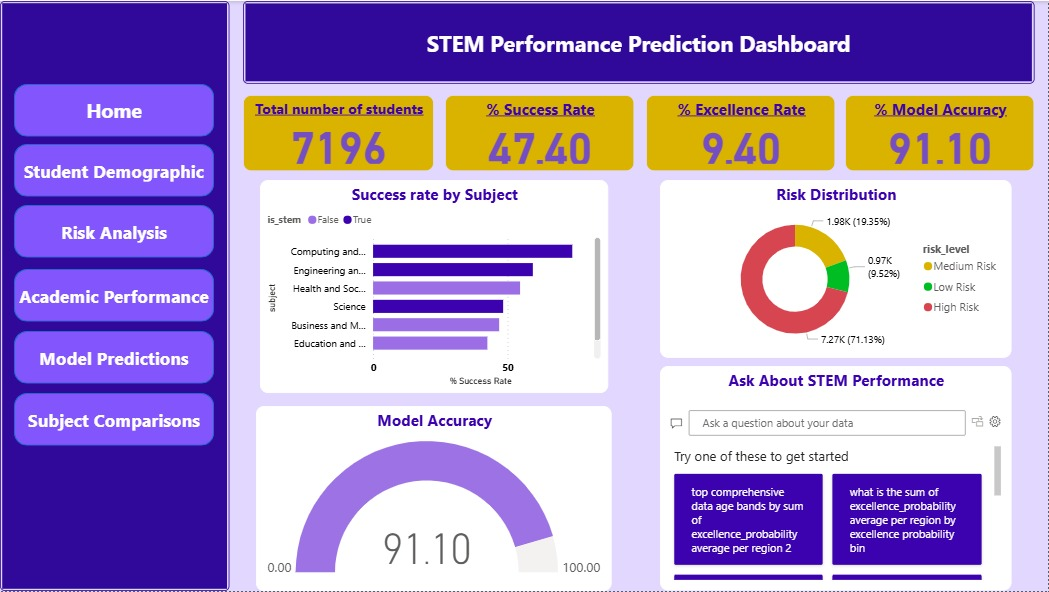

What the dashboard file says about the page in this screenshot:
{"tool":"powerbi","page":{"name":"Home","canvas":[1280,720],"ordinal":0},"visuals":[{"type":"card","title":"Total number of students ","fields":{"Values":["Count(studentInfo_for_powerbi.id_student)"]},"box":[297.1,114.3,232.9,92.9],"z":0},{"type":"shape","box":[0,0,280,720],"z":1000},{"type":"shape","box":[297.1,0,965.7,101.4],"z":2000},{"type":"shape","box":[17.1,101.4,244.3,64.3],"z":3000},{"type":"shape","box":[17.1,174.3,244.3,64.3],"z":4000},{"type":"shape","box":[17.1,478.6,244.3,64.3],"z":5000},{"type":"shape","box":[17.1,402.9,244.3,64.3],"z":6000},{"type":"shape","box":[17.1,327.1,244.3,64.3],"z":7000},{"type":"shape","box":[17.1,248.6,244.3,64.3],"z":8000},{"type":"card","title":"% Success Rate","fields":{"Values":["Sum(summary_stats.value)"]},"box":[542.9,114.3,231.4,92.9],"z":9000},{"type":"card","title":"% Excellence Rate","fields":{"Values":["Sum(summary_stats.value)"]},"box":[788.6,114.3,231.4,92.9],"z":10000},{"type":"card","title":"% Model Accuracy","fields":{"Values":["Sum(summary_stats.value)"]},"box":[1031.4,114.3,231.4,92.9],"z":11000},{"type":"donutChart","title":"Risk Distribution","fields":{"Y":["CountNonNull(comprehensive_data.risk_level)"],"Category":["comprehensive_data.risk_level"]},"box":[805.7,218.6,428.6,217.1],"z":12000},{"type":"barChart","title":"Success rate by Subject","fields":{"Category":["performance_by_subject.subject"],"Y":["Sum(performance_by_subject.success_rate)"],"Series":["comprehensive_data.is_stem"]},"box":[317.3,218.4,424.7,259.9],"z":13000},{"type":"gauge","title":"Model Accuracy","fields":{"Y":["Sum(summary_stats.value)"]},"box":[312.9,494.3,434.3,225.7],"z":14000},{"type":"qnaVisual","title":"Ask About STEM Performance","box":[805.7,445.7,428.6,274.3],"z":15000}]}

Visuals, with their boxes in screenshot pixels (x1, y1, x2, y2), scaled from the page's 1280x720 canvas onto the 1049x592 screenshot:
"Total number of students " card: bbox=(243, 94, 434, 170)
shape: bbox=(0, 0, 229, 591)
shape: bbox=(243, 0, 1035, 83)
shape: bbox=(14, 83, 214, 136)
shape: bbox=(14, 143, 214, 196)
shape: bbox=(14, 394, 214, 446)
shape: bbox=(14, 331, 214, 384)
shape: bbox=(14, 269, 214, 322)
shape: bbox=(14, 204, 214, 257)
"% Success Rate" card: bbox=(445, 94, 635, 170)
"% Excellence Rate" card: bbox=(646, 94, 836, 170)
"% Model Accuracy" card: bbox=(845, 94, 1035, 170)
"Risk Distribution" donutChart: bbox=(660, 180, 1012, 358)
"Success rate by Subject" barChart: bbox=(260, 180, 608, 393)
"Model Accuracy" gauge: bbox=(256, 406, 612, 591)
"Ask About STEM Performance" qnaVisual: bbox=(660, 366, 1012, 591)
